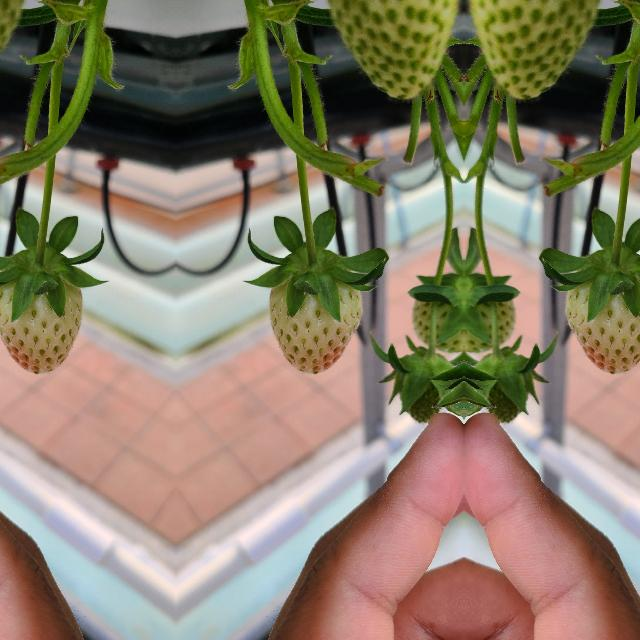Health_50: (268, 282, 362, 374), (0, 282, 81, 374), (564, 282, 640, 374)
